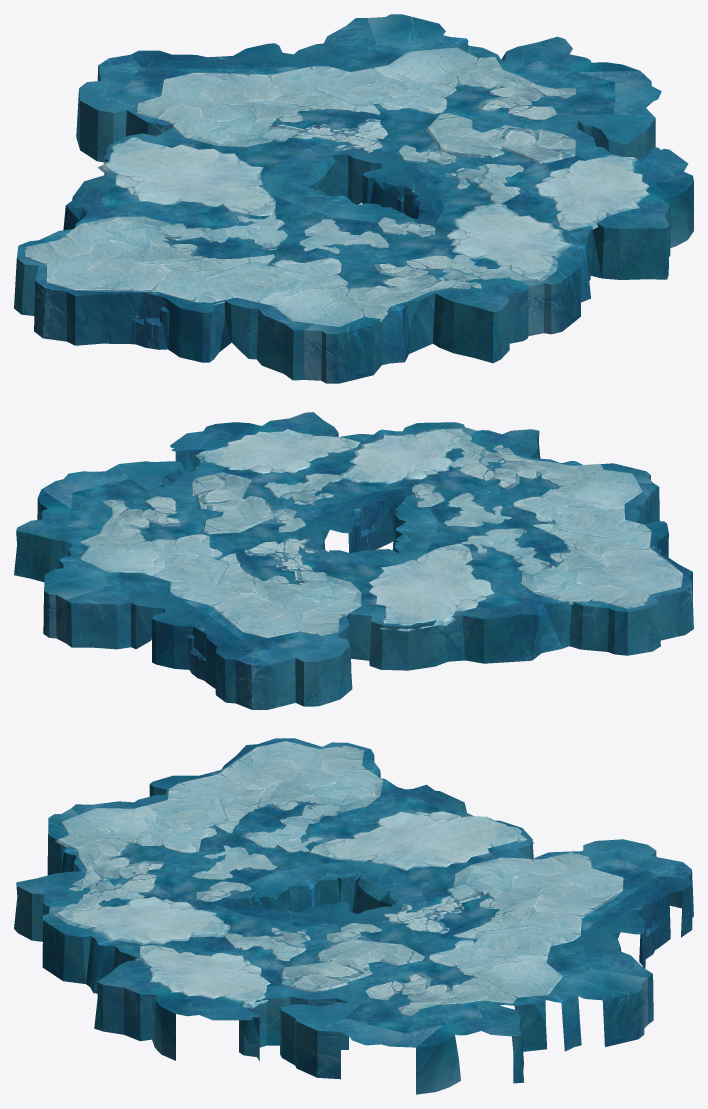
The model's file is 5015_Item_bing_1.FBX.
The picture shows the model from 3 angles, top to bottom: view 1: azimuth 30°, elevation 25°; view 2: azimuth 150°, elevation 25°; view 3: azimuth 270°, elevation 25°; orthographic projection. The views are drawn at different scales.
Visible parts, largest first — view 1: 5015_Item_bing_1; view 2: 5015_Item_bing_1; view 3: 5015_Item_bing_1.
Part boxes in pixels (x1,y1,x2,y2): 5015_Item_bing_1: (14, 14, 693, 383); 5015_Item_bing_1: (14, 412, 693, 709); 5015_Item_bing_1: (14, 738, 693, 1094).
Size of the model in its own units: 3807 by 279 by 3525.
